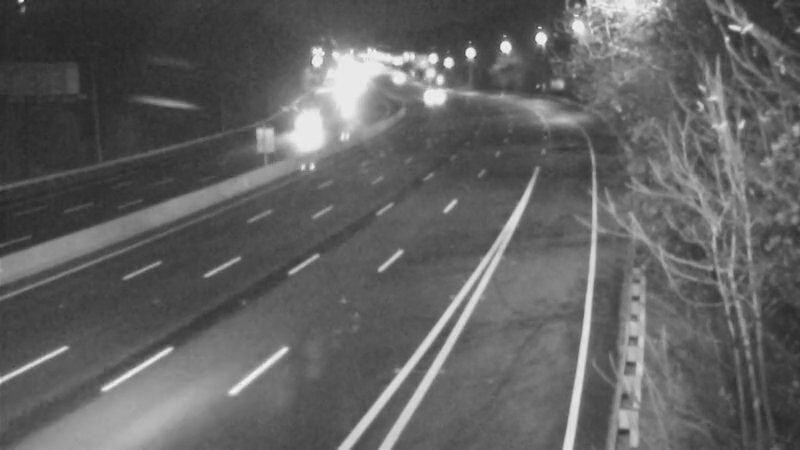vehicle: (371, 53, 421, 103), (402, 66, 452, 116), (279, 104, 329, 154)
